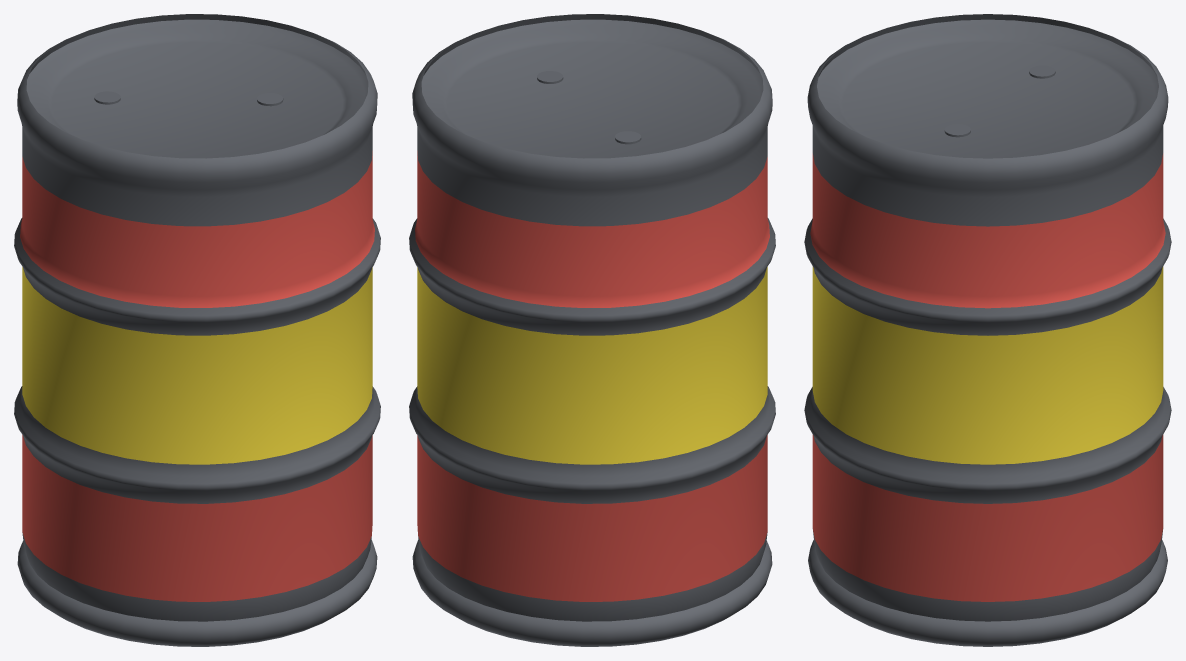
Rendered from ExplosiveBarrel.fbx.
The picture shows the model from 3 angles, left to right: view 1: azimuth 30°, elevation 25°; view 2: azimuth 150°, elevation 25°; view 3: azimuth 270°, elevation 25°; orthographic projection.
Parts seen in each view (by area): view 1: ExplosiveBarrel; view 2: ExplosiveBarrel; view 3: ExplosiveBarrel.
Boxes of the visible parts, x1,y1,x2,y2 form: ExplosiveBarrel: (14, 14, 380, 646); ExplosiveBarrel: (409, 14, 775, 646); ExplosiveBarrel: (804, 14, 1171, 646).
Size of the model in its own units: 0.6087 by 0.9 by 0.6087.
